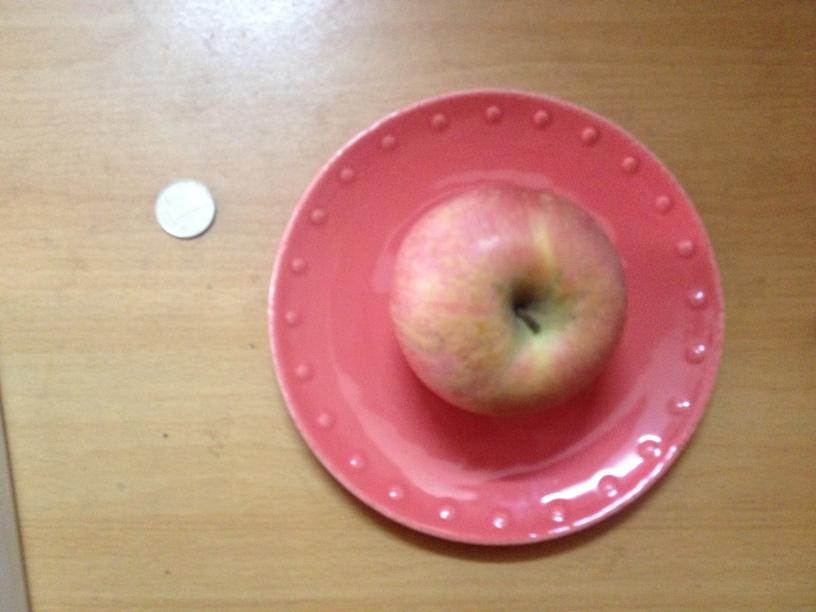apple: (392, 187, 628, 421)
coin: (153, 178, 216, 238)
